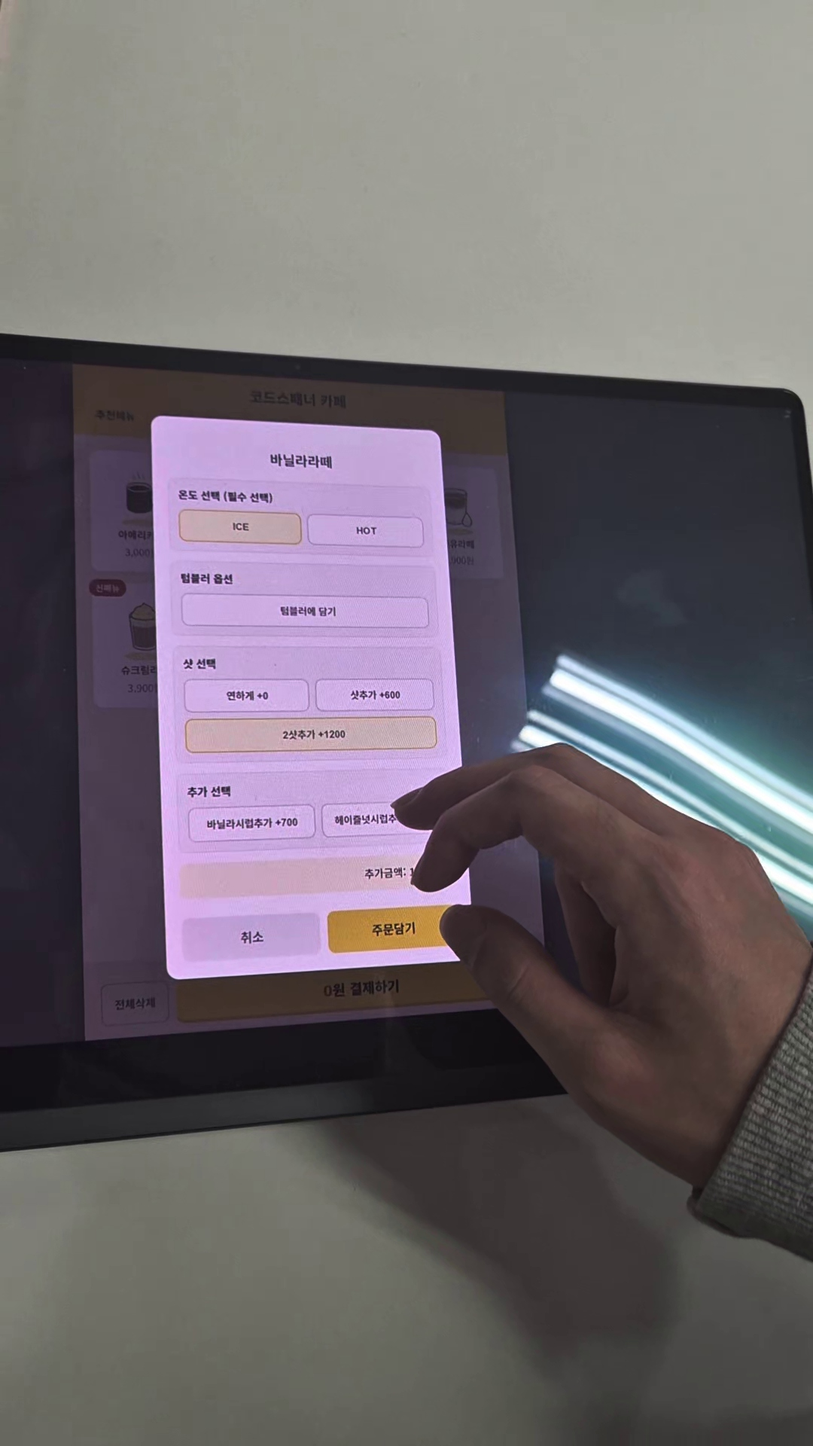action_button: (324, 905, 461, 953), (182, 914, 320, 961)
option_button: (184, 716, 437, 755), (182, 595, 428, 628), (178, 509, 301, 546), (184, 677, 307, 714), (321, 799, 447, 835), (189, 806, 315, 841), (307, 512, 424, 549), (316, 675, 433, 712)
popup_modal: (151, 413, 473, 978)
